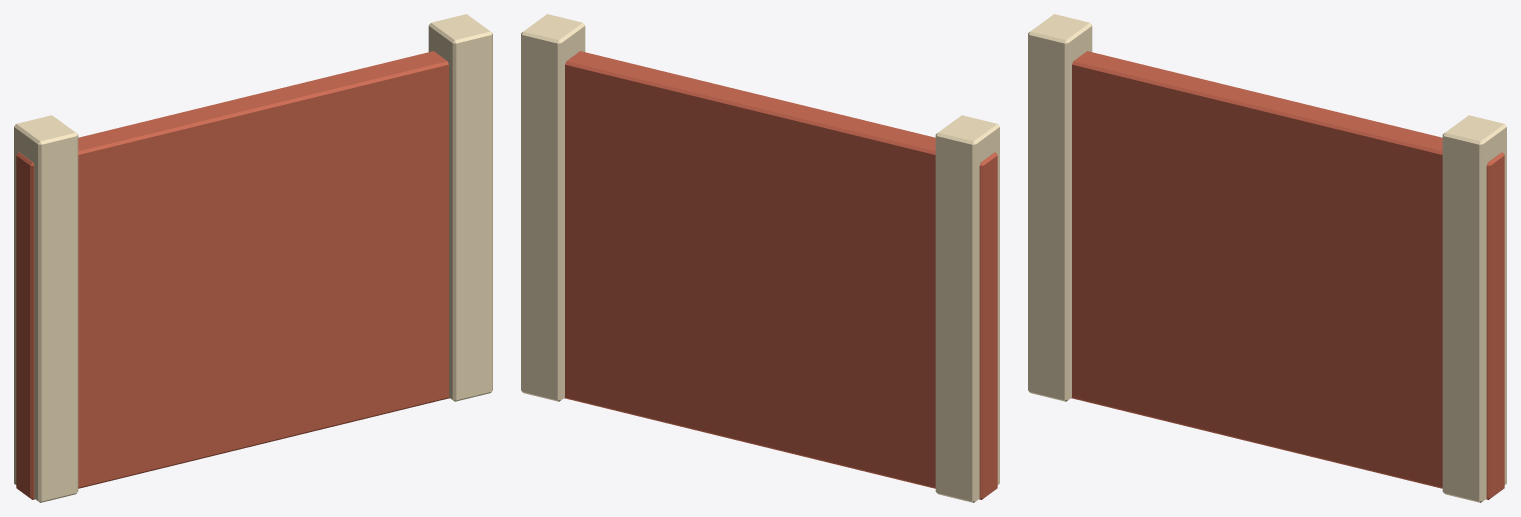
The model's file is AlleyWall_4m.fbx.
3 renders of one model, left to right at view 1: azimuth 30°, elevation 25°; view 2: azimuth 150°, elevation 25°; view 3: azimuth 330°, elevation 25°, orthographic.
Parts seen in each view (by area): view 1: Wall.002, Pillar, Pillar.001; view 2: Wall.002, Pillar, Pillar.001; view 3: Wall.002, Pillar.001, Pillar.
Boxes of the visible parts, box(x1,y1,x2,y2) form: Wall.002: box(16, 51, 449, 499); Pillar: box(14, 115, 78, 502); Pillar.001: box(428, 14, 492, 401); Wall.002: box(564, 51, 997, 499); Pillar: box(935, 115, 999, 502); Pillar.001: box(521, 14, 585, 401); Wall.002: box(1071, 51, 1504, 499); Pillar.001: box(1442, 115, 1506, 502); Pillar: box(1028, 14, 1092, 401).
Bounding box in the file's own units: 4 × 3 × 0.4.
